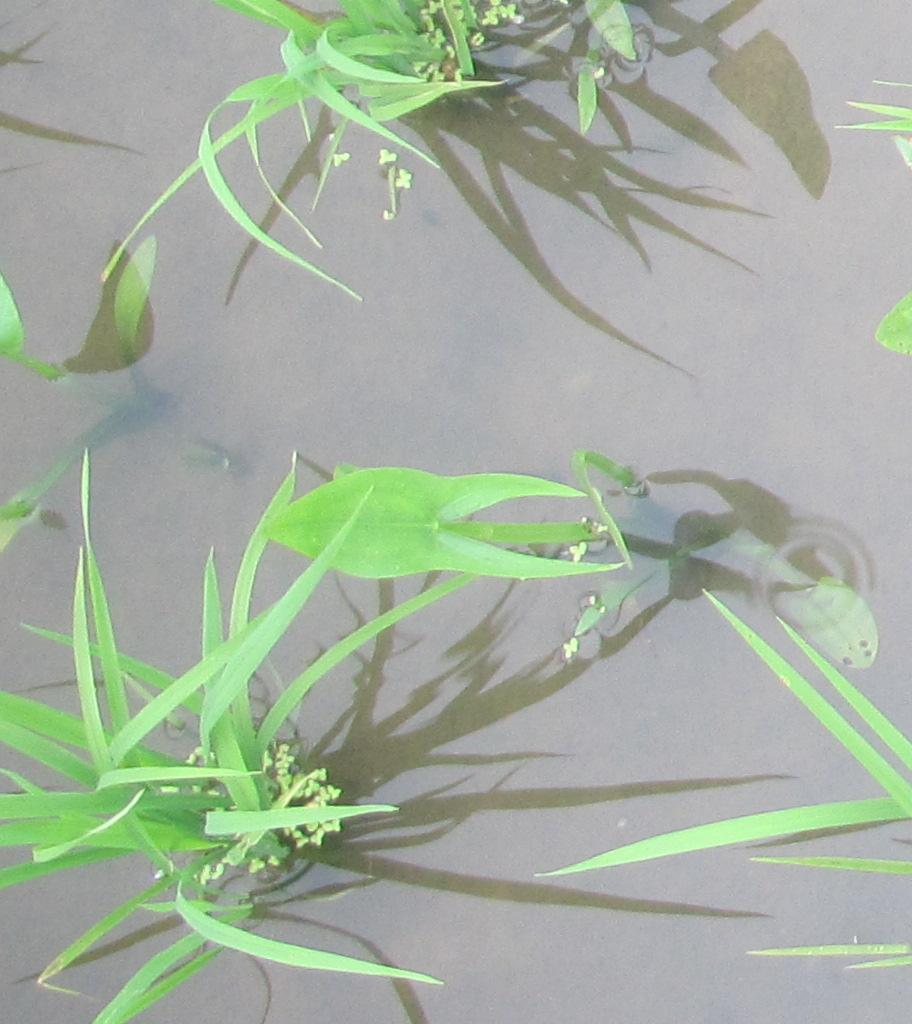Weed: (250, 457, 625, 622)
